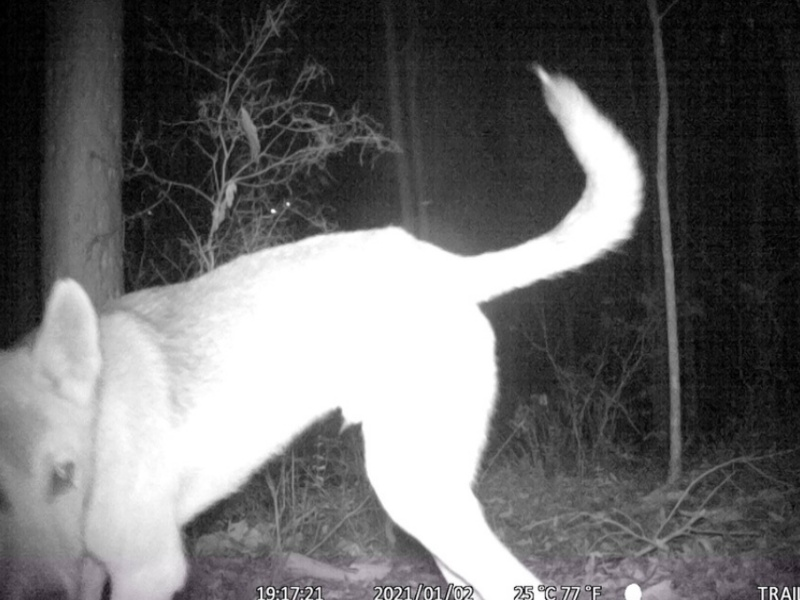dog: (2, 63, 649, 600)
